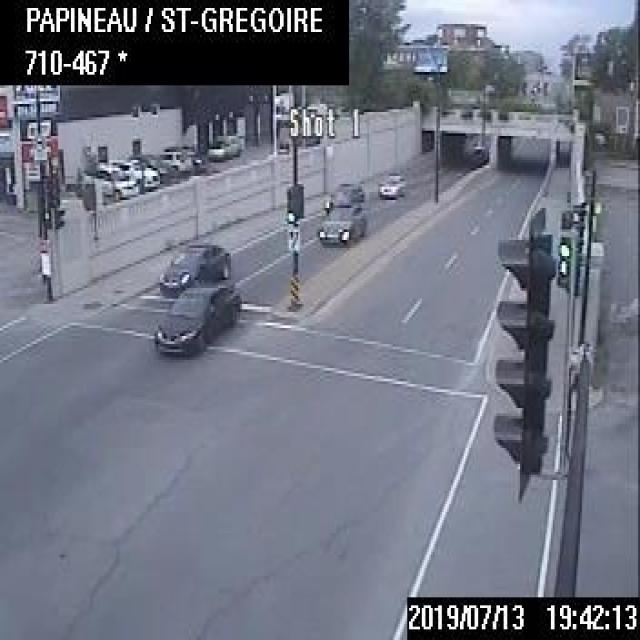vehicle: (154, 278, 240, 352), (158, 235, 231, 294), (83, 157, 137, 199), (318, 204, 364, 243), (111, 152, 157, 189), (322, 177, 364, 207), (206, 130, 244, 158), (157, 147, 193, 176), (376, 173, 404, 195)
